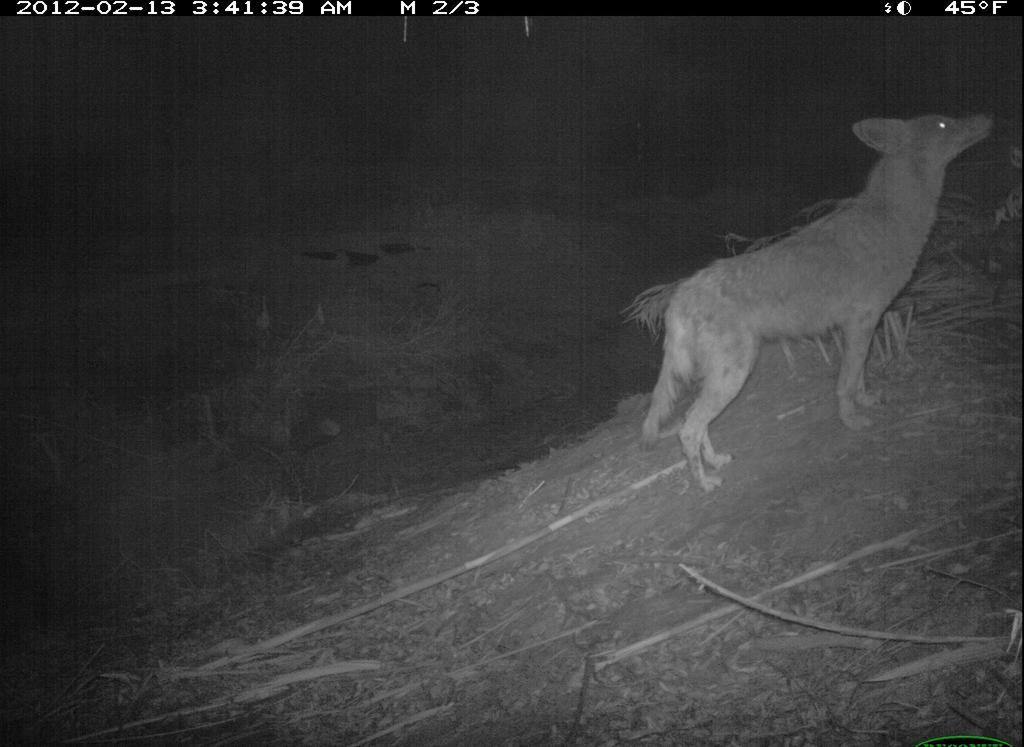coyote: (625, 88, 999, 502)
